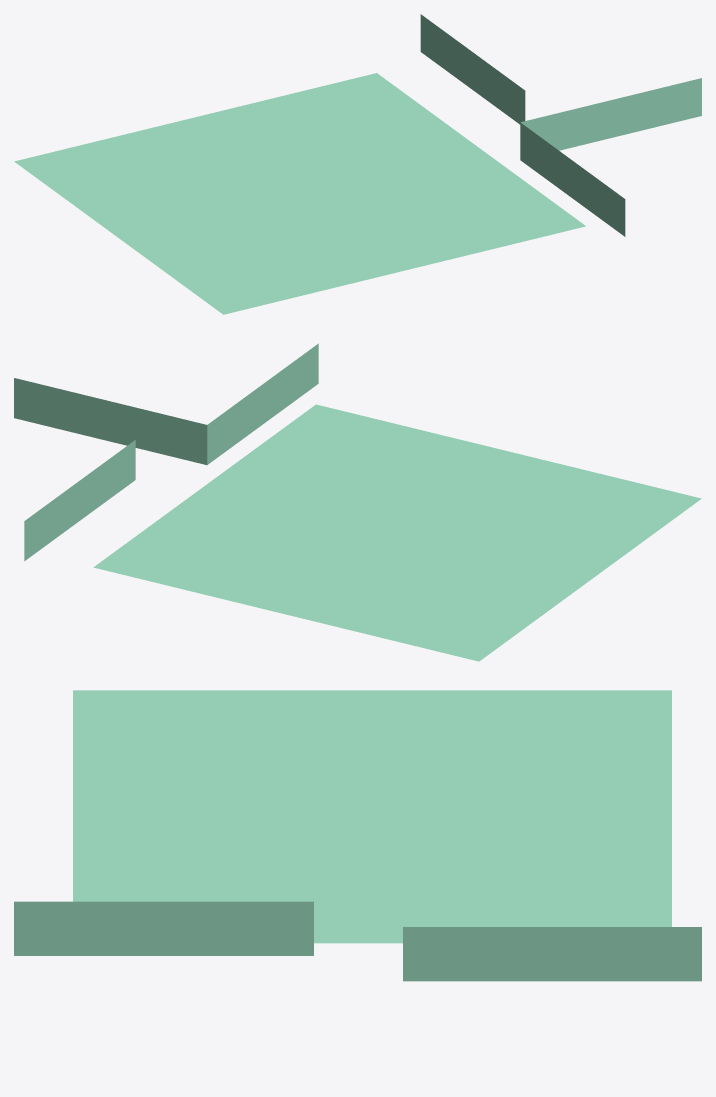
File: TempA_CeilingParts_01_Low.fbx
3 views of the same model, one above another, from view 1: azimuth 30°, elevation 25°; view 2: azimuth 150°, elevation 25°; view 3: azimuth 270°, elevation 25° (orthographic). The views are drawn at different scales.
Visible parts, largest first — view 1: TempA_CeilingPlane_01_Low, TempA_CeilingCorner_01_Low, TempA_CeilingWall_01_Low; view 2: TempA_CeilingPlane_01_Low, TempA_CeilingCorner_01_Low, TempA_CeilingWall_01_Low; view 3: TempA_CeilingPlane_01_Low, TempA_CeilingCorner_01_Low, TempA_CeilingWall_01_Low.
Boxes of the visible parts, box(x1,y1,x2,y2) form: TempA_CeilingPlane_01_Low: box(14, 73, 585, 314); TempA_CeilingCorner_01_Low: box(520, 78, 701, 236); TempA_CeilingWall_01_Low: box(420, 14, 525, 124); TempA_CeilingPlane_01_Low: box(93, 404, 701, 661); TempA_CeilingCorner_01_Low: box(14, 343, 318, 464); TempA_CeilingWall_01_Low: box(24, 440, 135, 561); TempA_CeilingPlane_01_Low: box(73, 690, 671, 943); TempA_CeilingCorner_01_Low: box(14, 901, 313, 955); TempA_CeilingWall_01_Low: box(403, 927, 701, 981).
Size of the model in its own units: 31.05 by 2 by 23.
